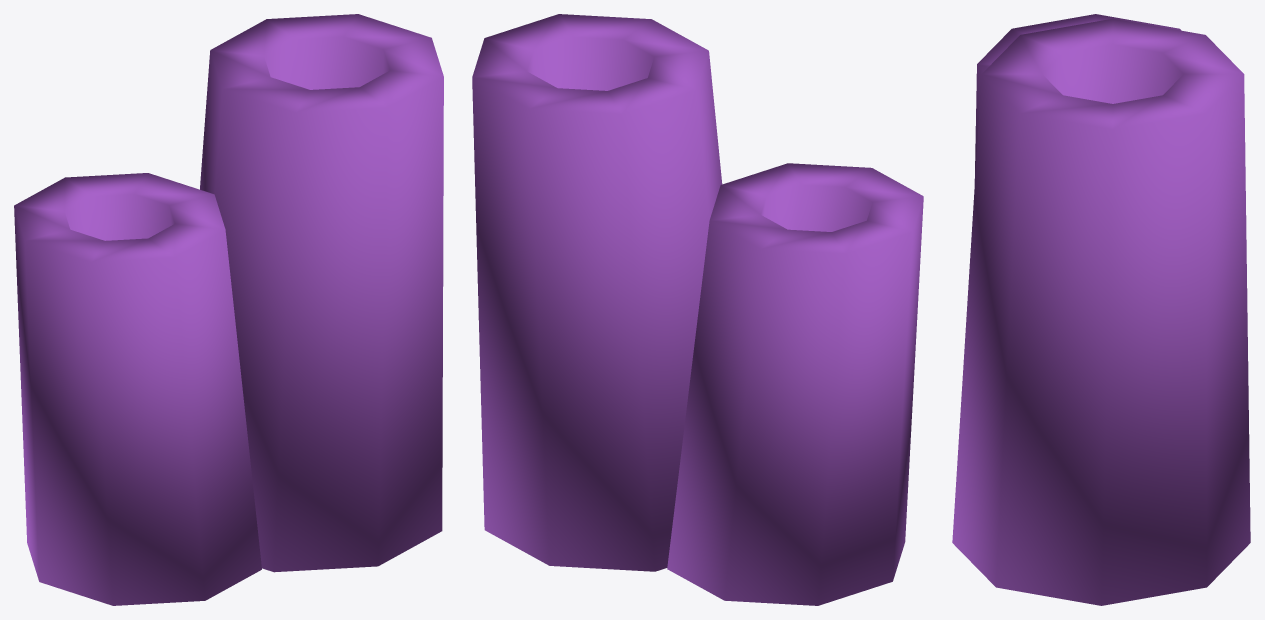
File: Small3.fbx
The picture shows the model from 3 angles, left to right: view 1: azimuth 30°, elevation 25°; view 2: azimuth 150°, elevation 25°; view 3: azimuth 270°, elevation 25°; orthographic projection. The views are drawn at different scales.
Visible parts, largest first — view 1: Small3; view 2: Small3; view 3: Small3.
Part boxes in pixels (x1,y1,x2,y2): Small3: (14,14,443,605); Small3: (472,14,923,605); Small3: (952,14,1250,605).
Bounding box in the file's own units: 1.81 × 1.85 × 1.04.
